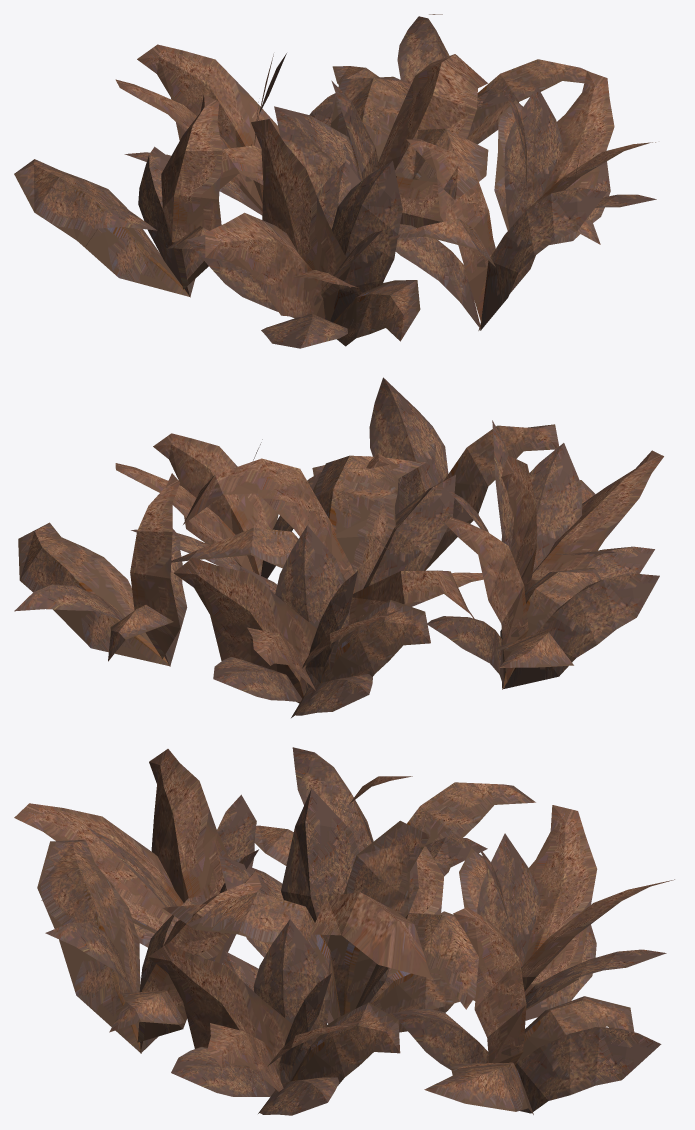
File: fern-group-1.glb
3 views of the same model, one above another, from view 1: azimuth 30°, elevation 25°; view 2: azimuth 150°, elevation 25°; view 3: azimuth 270°, elevation 25° (orthographic). The views are drawn at different scales.
Visible parts, largest first — view 1: world; view 2: world; view 3: world.
Part boxes in pixels (left/top/right/bottom): world: left=14, top=14, right=656, bottom=348; world: left=14, top=377, right=663, bottom=717; world: left=14, top=747, right=674, bottom=1115.
Size of the model in its own units: 2.91 by 1.03 by 2.67.
1 material, 1 textured.
